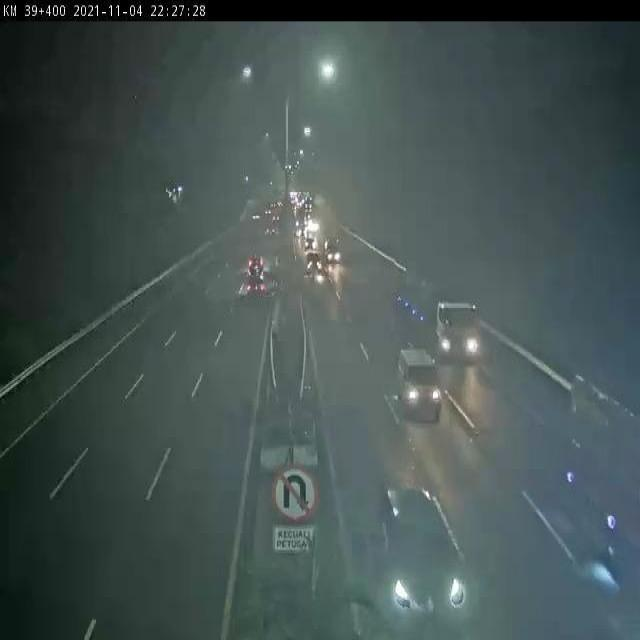car: (379, 485, 466, 623), (394, 348, 444, 419), (244, 272, 264, 297), (246, 255, 264, 281), (305, 249, 321, 272)
truck-s-: (323, 237, 341, 264)
truck-xl-: (392, 269, 480, 363)
